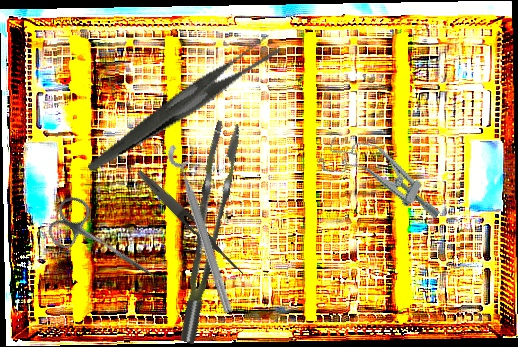Dressing Forceps: (66, 32, 299, 172), (133, 167, 249, 278)
Fixation Ring: (164, 138, 247, 316)
Iris Scissors: (40, 191, 171, 298)
Speculum: (315, 125, 454, 228)
Tissue Forceps: (149, 118, 263, 345)
